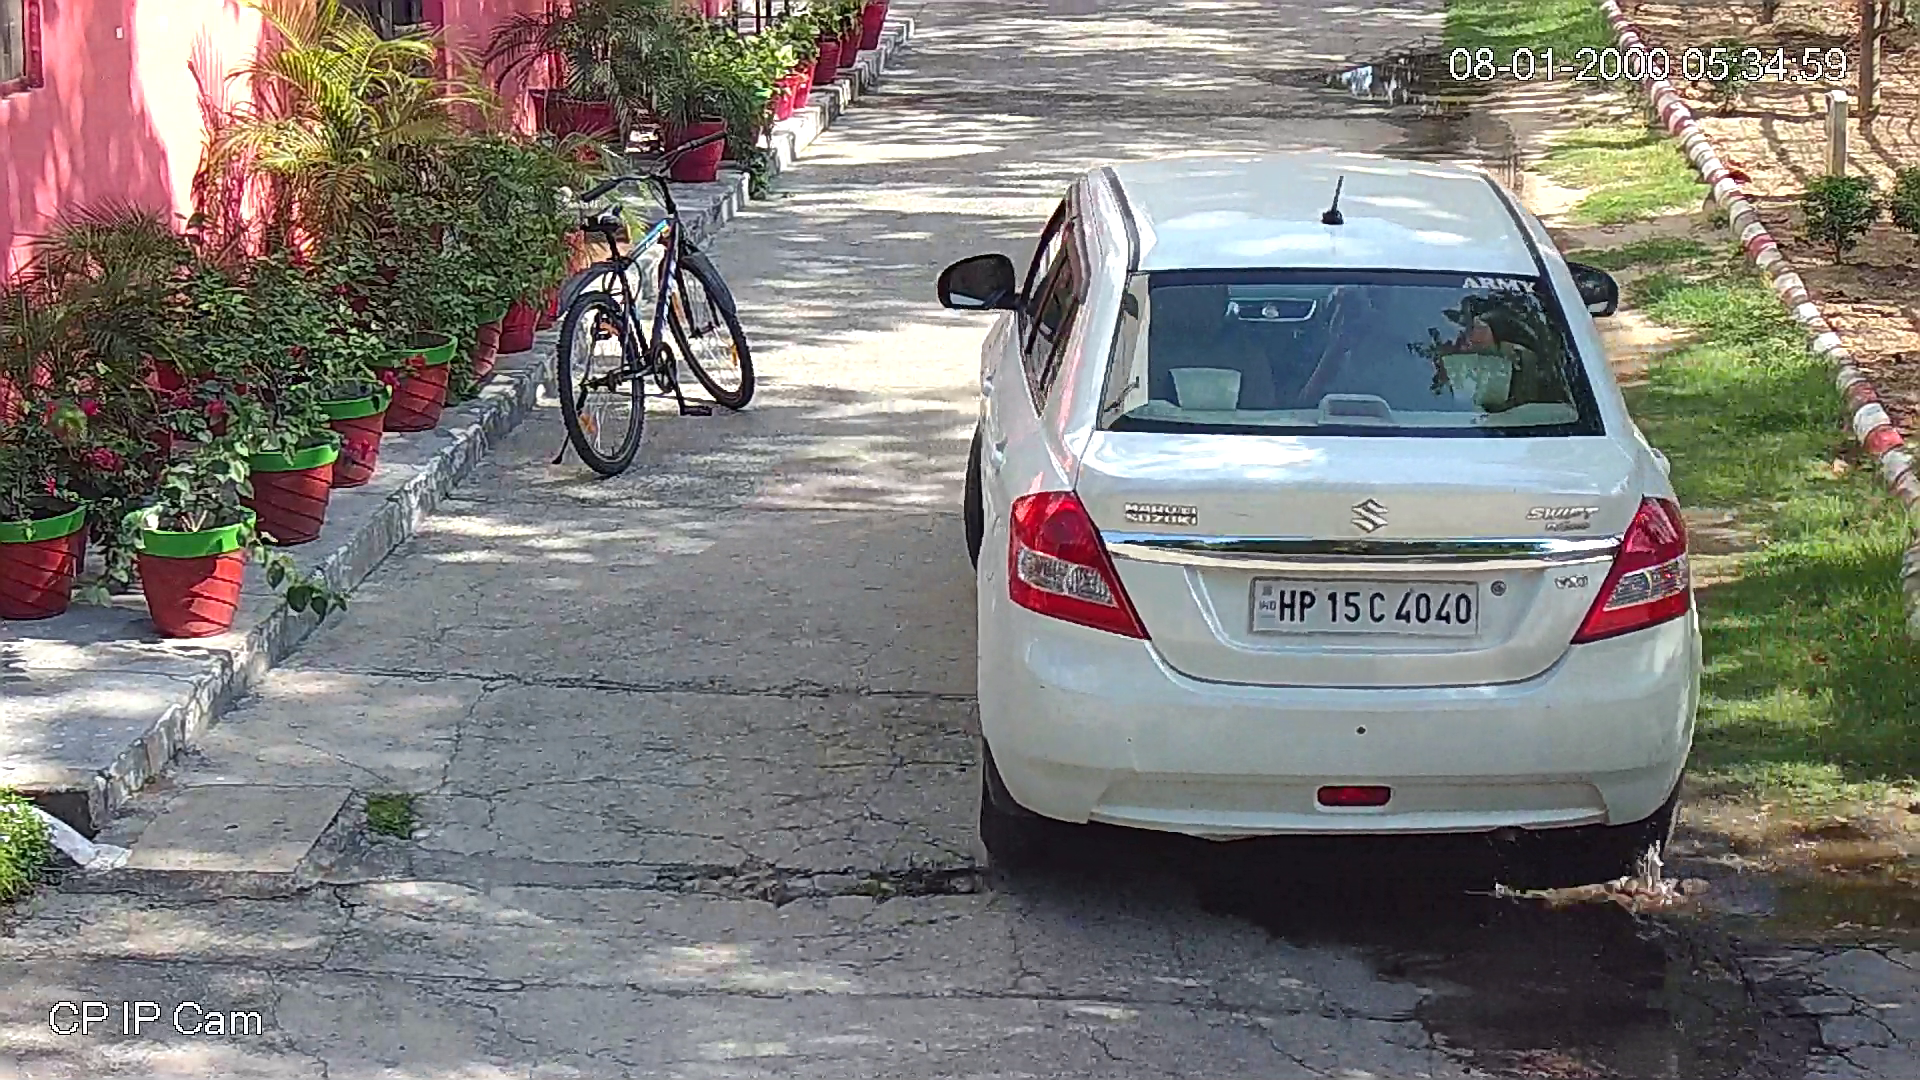plate: (1247, 582, 1482, 635)
